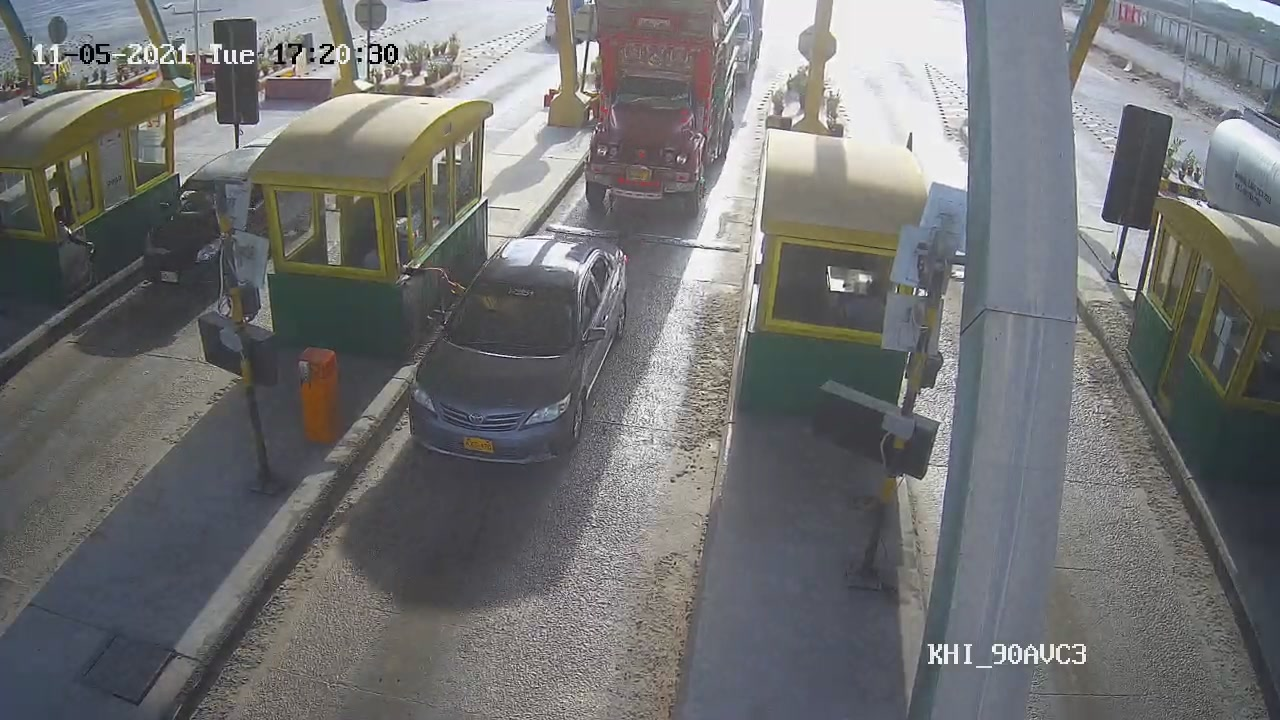F1: (397, 228, 642, 479)
F5: (579, 1, 765, 224)
